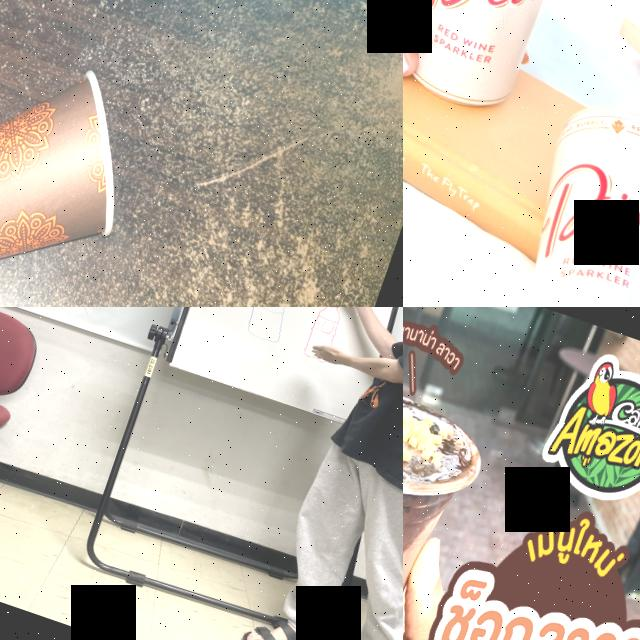can: (482, 90, 640, 307), (403, 0, 594, 123)
cup: (0, 29, 164, 307), (403, 361, 494, 640)
